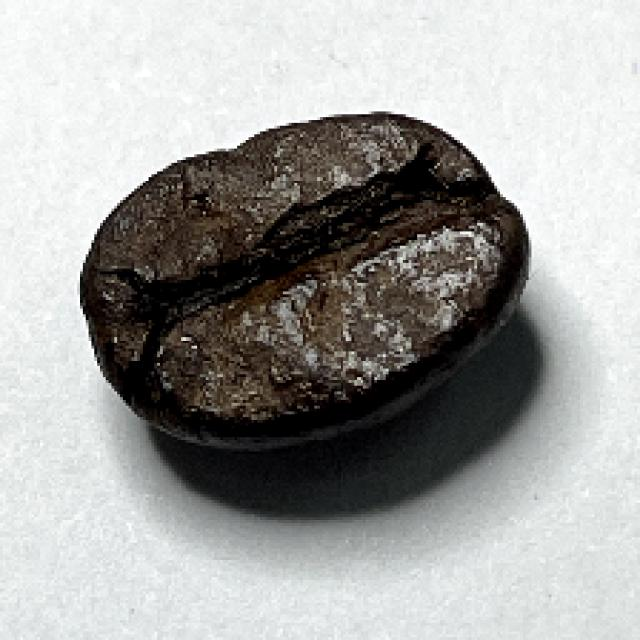bean: (76, 111, 530, 452)
